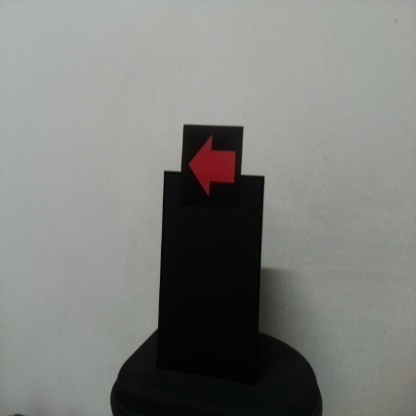id_4: (184, 126, 241, 213)
